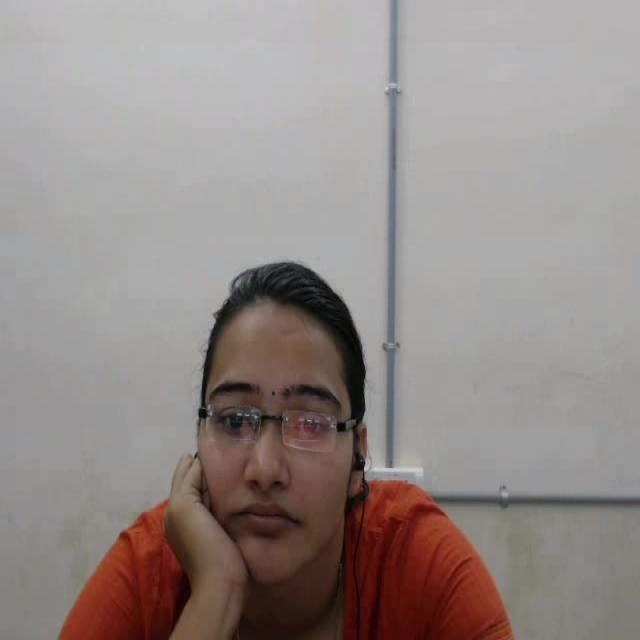Bored: (136, 231, 399, 640)
